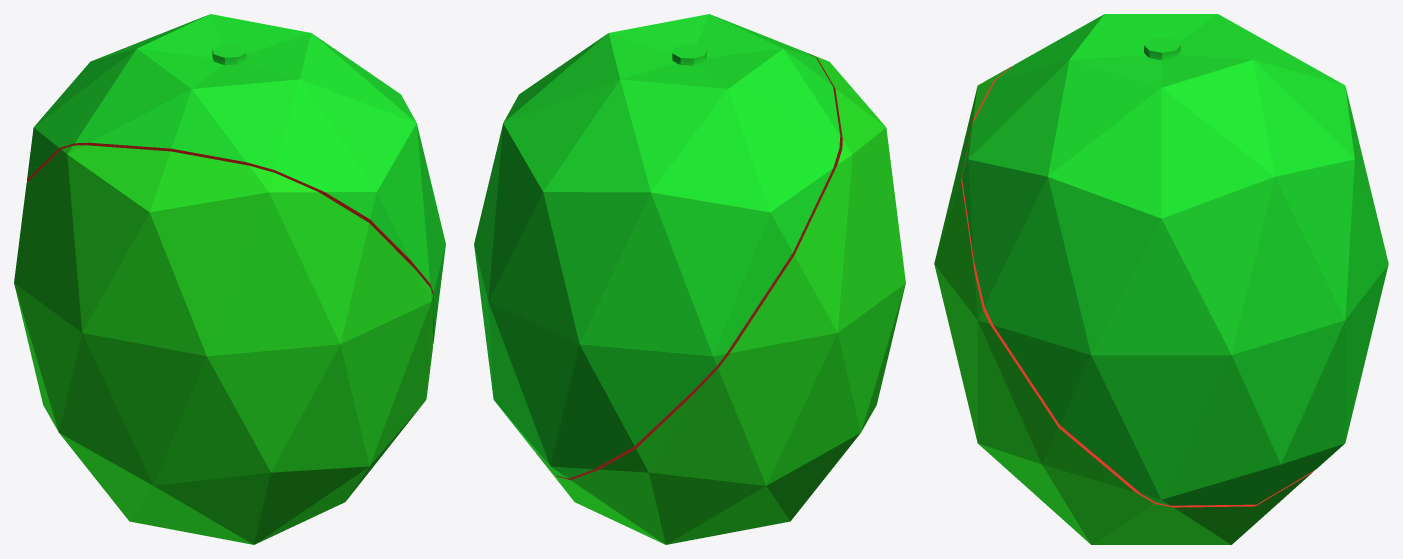
The model's file is BrokenWatermelon.fbx.
The picture shows the model from 3 angles, left to right: view 1: azimuth 30°, elevation 25°; view 2: azimuth 150°, elevation 25°; view 3: azimuth 270°, elevation 25°; orthographic projection. The views are drawn at different scales.
Parts seen in each view (by area): view 1: Watermelon_cell, Watermelon_cell.001; view 2: Watermelon_cell.001, Watermelon_cell; view 3: Watermelon_cell.001, Watermelon_cell.
Boxes of the visible parts, <box> form: Watermelon_cell: <box>14,145,433,544</box>; Watermelon_cell.001: <box>27,14,445,343</box>; Watermelon_cell.001: <box>474,14,840,478</box>; Watermelon_cell: <box>536,53,905,544</box>; Watermelon_cell.001: <box>962,14,1388,505</box>; Watermelon_cell: <box>934,66,1314,544</box>.
Size of the model in its own units: 29.42 by 36.31 by 30.93.
